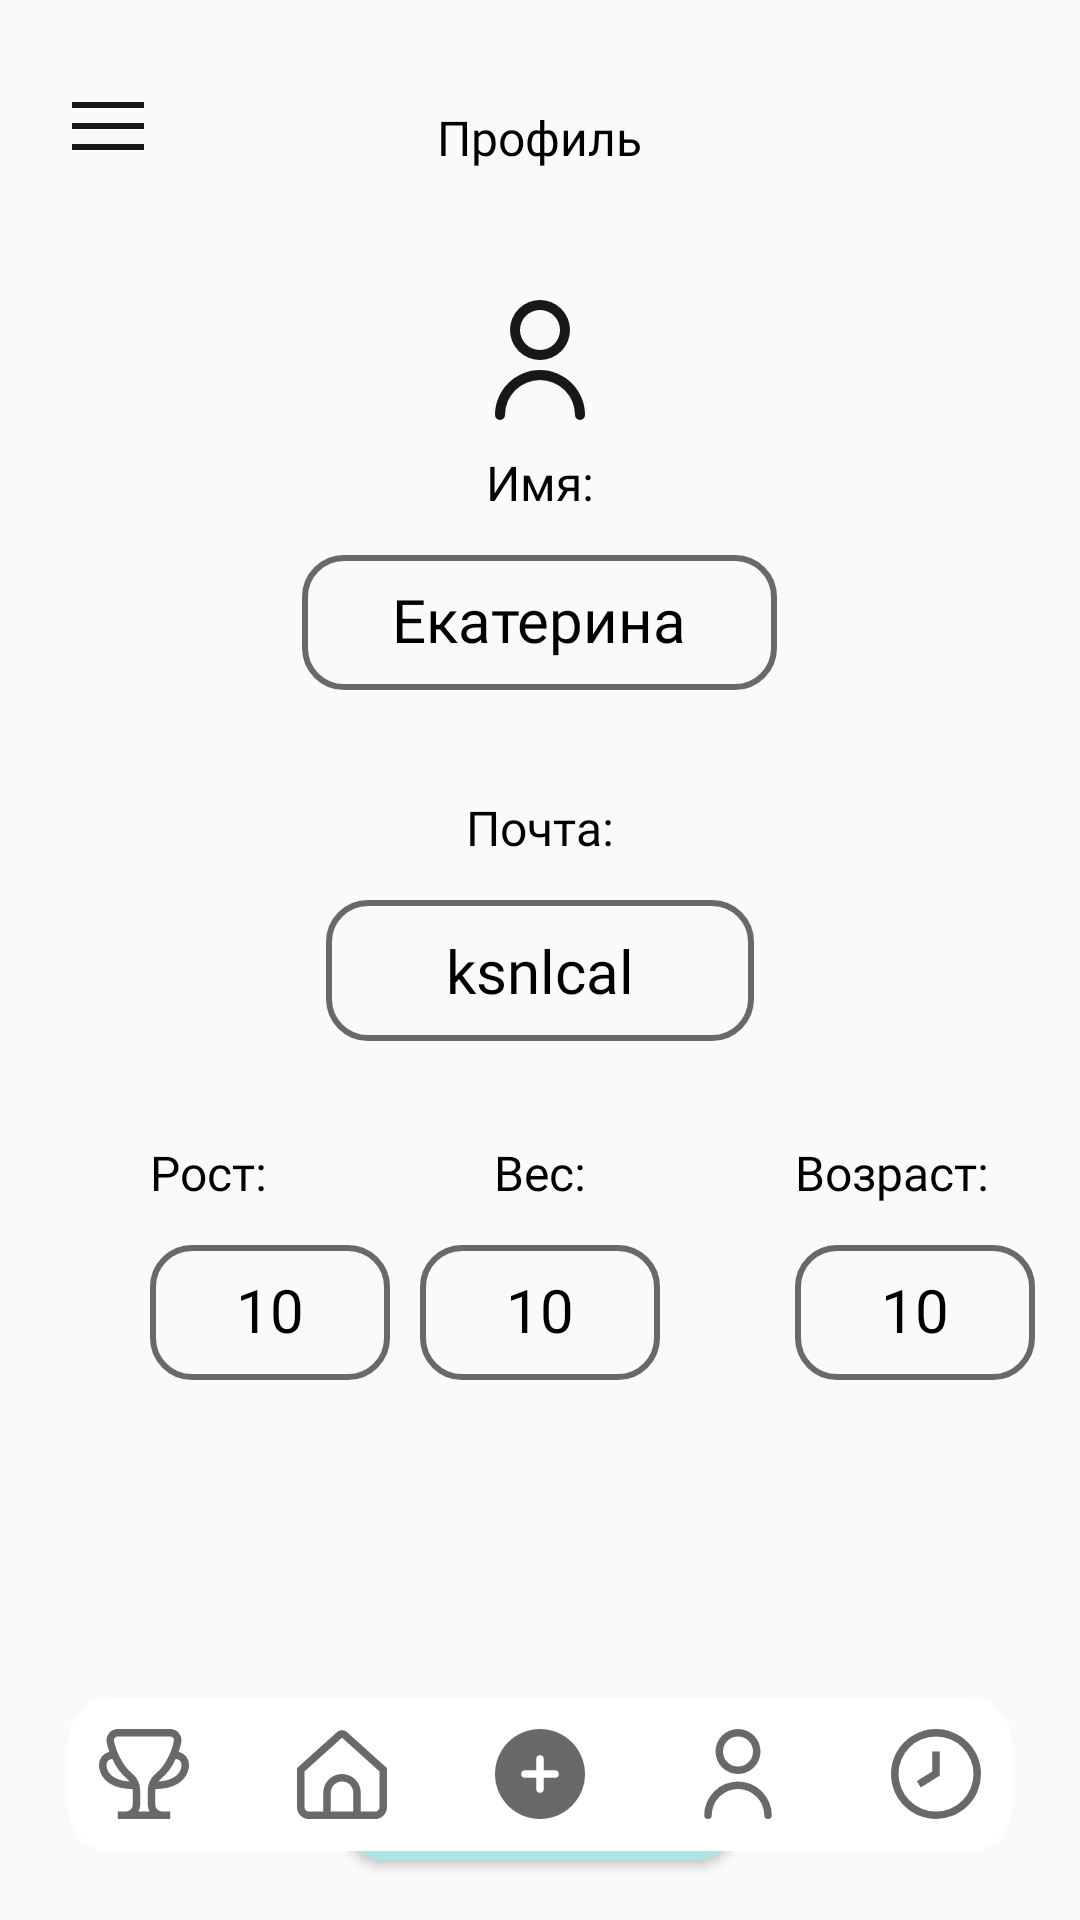

Screen size 1080w x 1920h. Icon name, then its center in pixels as [x,y]:
Drawer Menu: [108,126]
user: [540,360]
